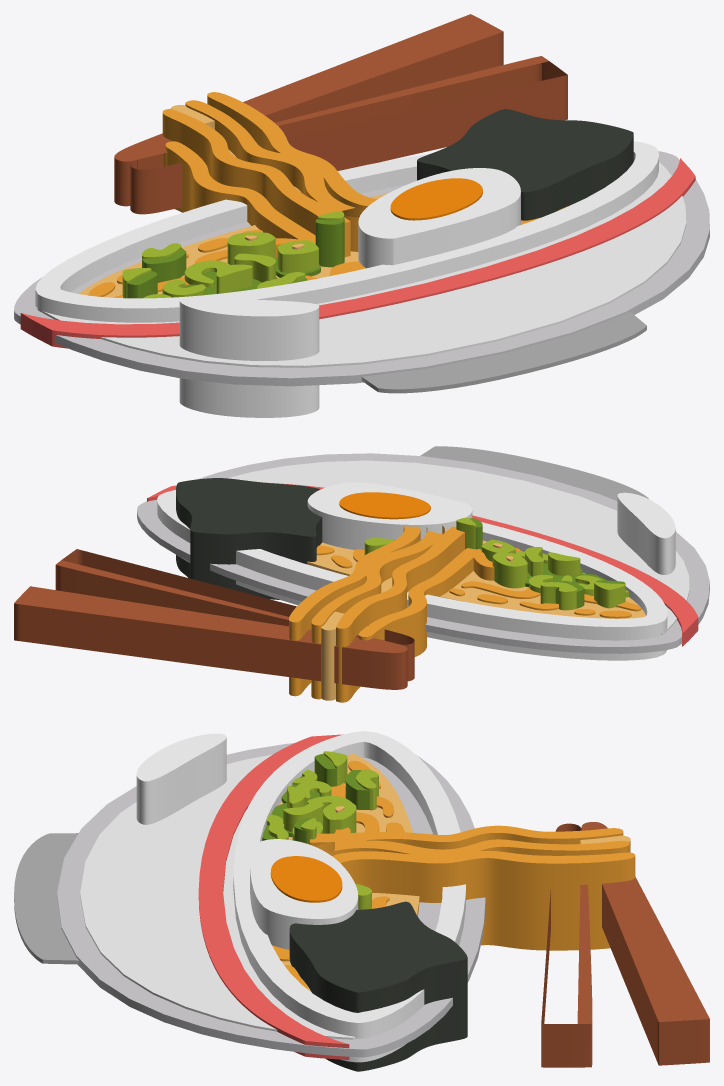
The model's file is emoji_u1f35c.glb.
3 renders of one model, top to bottom at view 1: azimuth 30°, elevation 25°; view 2: azimuth 150°, elevation 25°; view 3: azimuth 270°, elevation 25°, orthographic. The views are drawn at different scales.
Visible parts, largest first — view 1: emoji_u1f35c; view 2: emoji_u1f35c; view 3: emoji_u1f35c.
Boxes of the visible parts, x1,y1,x2,y2 form: emoji_u1f35c: (14, 14, 709, 417); emoji_u1f35c: (14, 446, 709, 702); emoji_u1f35c: (14, 731, 709, 1071).
Bounding box in the file's own units: 0.0338 × 0.0054 × 0.0319.
